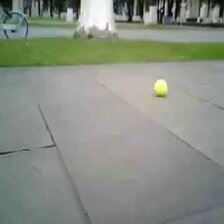tennis: (154, 79, 168, 96)
